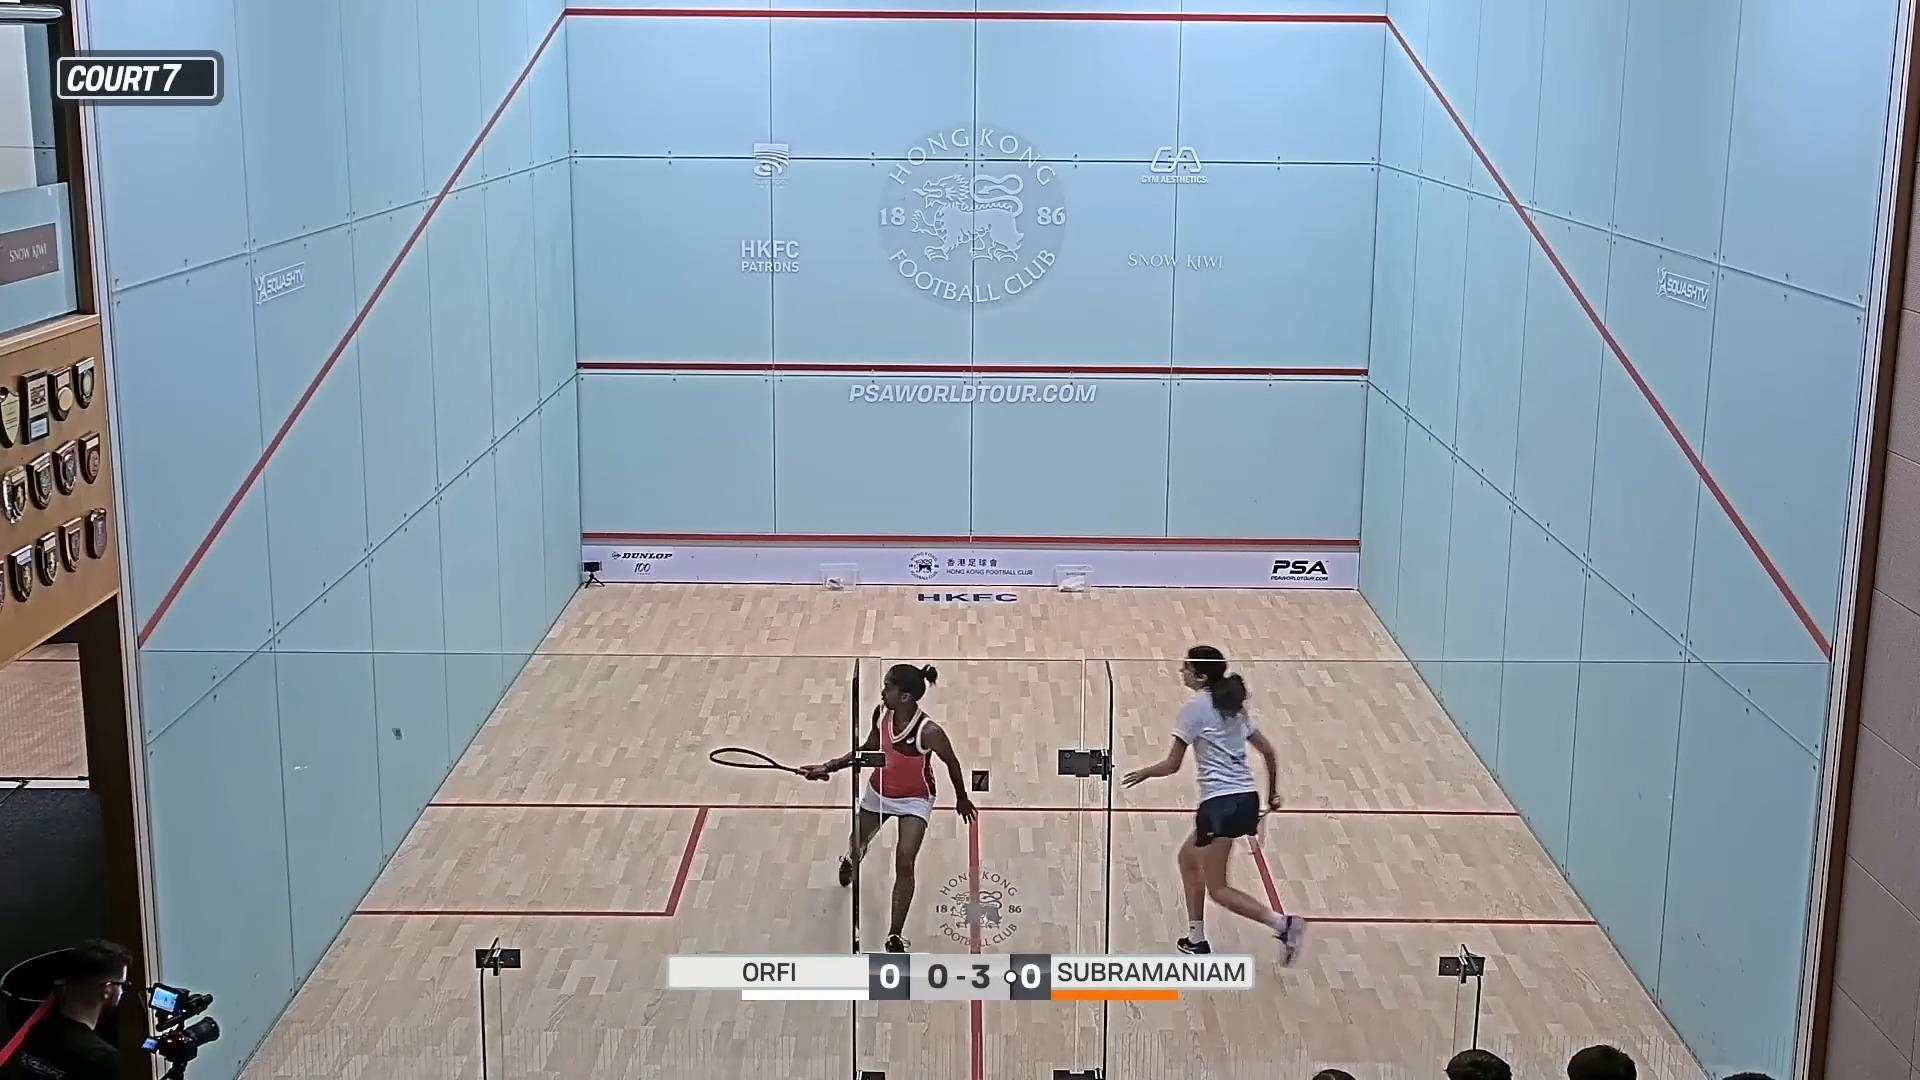Squash-Ball: (385, 712, 413, 753)
